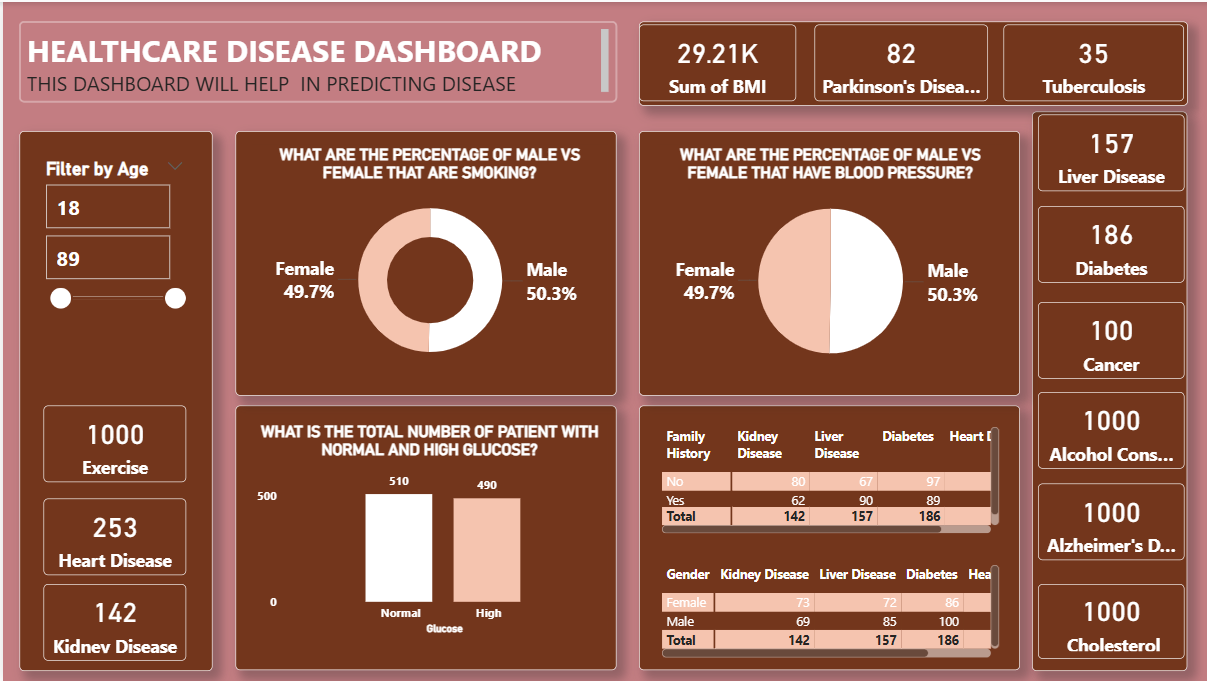

Layout of this report page (visuals, bound fields, positions):
{"tool":"powerbi","page":{"name":"Page 1","canvas":[1280,720],"ordinal":0},"visuals":[{"type":"shape","box":[674.8,428.4,403.7,280.5],"z":0},{"type":"shape","box":[246.4,428.4,403.7,280.5],"z":1000},{"type":"shape","box":[1091.7,115.6,164.9,593.3],"z":2000},{"type":"shape","box":[674.8,20.8,581.9,89.1],"z":3000},{"type":"shape","box":[674.8,136.5,403.7,280.5],"z":4000},{"type":"shape","box":[246.4,136.5,403.7,280.5],"z":5000},{"type":"donutChart","title":"WHAT ARE THE PERCENTAGE OF MALE VS FEMALE THAT ARE SMOKING?","fields":{"Y":["CountNonNull(healthcare_disease_prediction_dataset.Smoking)"],"Category":["healthcare_disease_prediction_dataset.Gender"]},"box":[263.5,151.6,377.2,248.3],"z":6000},{"type":"card","fields":{"Values":["Sum(healthcare_disease_prediction_dataset.Diabetes)"]},"box":[1097.4,216.1,155.4,81.5],"z":7000},{"type":"card","fields":{"Values":["Sum(healthcare_disease_prediction_dataset.Cancer)"]},"box":[1097.4,318.4,155.4,81.5],"z":8000},{"type":"card","fields":{"Values":["Sum(healthcare_disease_prediction_dataset.Liver Disease)"]},"box":[1097.4,119.4,155.4,81.5],"z":9000},{"type":"card","fields":{"Values":["Sum(healthcare_disease_prediction_dataset.Parkinson's Disease)"]},"box":[860.5,24.6,183.9,81.5],"z":10000},{"type":"card","fields":{"Values":["Sum(healthcare_disease_prediction_dataset.Tuberculosis)"]},"box":[1061.4,24.6,191.4,81.5],"z":11000},{"type":"pieChart","title":"WHAT ARE THE PERCENTAGE OF MALE VS FEMALE THAT HAVE BLOOD PRESSURE?","fields":{"Category":["healthcare_disease_prediction_dataset.Gender"],"Y":["CountNonNull(healthcare_disease_prediction_dataset.Blood Pressure)"]},"box":[693.7,151.6,367.7,250.2],"z":12000},{"type":"columnChart","title":"WHAT IS THE TOTAL NUMBER OF PATIENT WITH NORMAL AND HIGH GLUCOSE?","fields":{"Category":["healthcare_disease_prediction_dataset.Glucose"],"Y":["CountNonNull(healthcare_disease_prediction_dataset.Glucose)"]},"box":[263.5,445.4,377.2,229.3],"z":13000},{"type":"card","fields":{"Values":["CountNonNull(healthcare_disease_prediction_dataset.Alcohol Consumption)"]},"box":[1097.4,413.2,155.4,81.5],"z":14000},{"type":"card","fields":{"Values":["CountNonNull(healthcare_disease_prediction_dataset.Alzheimer's Disease)"]},"box":[1097.4,509.9,155.4,81.5],"z":15000},{"type":"card","fields":{"Values":["CountNonNull(healthcare_disease_prediction_dataset.Cholesterol)"]},"box":[1097.4,617.9,155.4,79.6],"z":16000},{"type":"pivotTable","title":"WHAT IS THE TOTAL NUMBER OF PATIENT WITH NORMAL AND HIGH GLUCOSE?","fields":{"Values":["Sum(healthcare_disease_prediction_dataset.Kidney Disease)","Sum(healthcare_disease_prediction_dataset.Liver Disease)","Sum(healthcare_disease_prediction_dataset.Diabetes)","CountNonNull(healthcare_disease_prediction_dataset.Heart Disease)"],"Rows":["healthcare_disease_prediction_dataset.Gender"]},"box":[693.7,591.4,367.7,108],"z":17000},{"type":"pivotTable","title":"WHAT IS THE TOTAL NUMBER OF PATIENT WITH NORMAL AND HIGH GLUCOSE?","fields":{"Values":["Sum(healthcare_disease_prediction_dataset.Kidney Disease)","Sum(healthcare_disease_prediction_dataset.Liver Disease)","Sum(healthcare_disease_prediction_dataset.Diabetes)","CountNonNull(healthcare_disease_prediction_dataset.Heart Disease)"],"Rows":["healthcare_disease_prediction_dataset.Family History"]},"box":[693.7,445.4,367.7,123.2],"z":18000},{"type":"shape","box":[17.1,136.5,204.7,572.4],"z":19000},{"type":"slicer","fields":{"Values":["healthcare_disease_prediction_dataset.Age"]},"box":[32.2,159.2,172.5,242.6],"z":20000},{"type":"card","fields":{"Values":["CountNonNull(healthcare_disease_prediction_dataset.Exercise)"]},"box":[43.6,428.4,151.6,81.5],"z":21000},{"type":"card","fields":{"Values":["Sum(healthcare_disease_prediction_dataset.Heart Disease)"]},"box":[43.6,526.9,151.6,81.5],"z":22000},{"type":"card","fields":{"Values":["Sum(healthcare_disease_prediction_dataset.Kidney Disease)"]},"box":[43.6,617.9,151.6,81.5],"z":23000},{"type":"card","fields":{"Values":["Sum(healthcare_disease_prediction_dataset.BMI)"]},"box":[674.8,24.6,166.8,81.5],"z":24000},{"type":"textbox","box":[17.1,20.8,633.1,85.3],"z":25000}]}

Visuals, with their boxes in screenshot pixels (x1, y1, x2, y2), scaled from the page's 1280x720 canvas onto the 1207x681 screenshot:
shape: x1=636, y1=405, x2=1017, y2=671
shape: x1=232, y1=405, x2=613, y2=671
shape: x1=1029, y1=109, x2=1185, y2=671
shape: x1=636, y1=20, x2=1185, y2=104
shape: x1=636, y1=129, x2=1017, y2=394
shape: x1=232, y1=129, x2=613, y2=394
"WHAT ARE THE PERCENTAGE OF MALE VS FEMALE THAT ARE SMOKING?" donutChart: x1=248, y1=143, x2=604, y2=378
card - Sum(healthcare_disease_prediction_dataset.Diabetes): x1=1035, y1=204, x2=1181, y2=281
card - Sum(healthcare_disease_prediction_dataset.Cancer): x1=1035, y1=301, x2=1181, y2=378
card - Sum(healthcare_disease_prediction_dataset.Liver Disease): x1=1035, y1=113, x2=1181, y2=190
card - Sum(healthcare_disease_prediction_dataset.Parkinson's Disease): x1=811, y1=23, x2=985, y2=100
card - Sum(healthcare_disease_prediction_dataset.Tuberculosis): x1=1001, y1=23, x2=1181, y2=100
"WHAT ARE THE PERCENTAGE OF MALE VS FEMALE THAT HAVE BLOOD PRESSURE?" pieChart: x1=654, y1=143, x2=1001, y2=380
"WHAT IS THE TOTAL NUMBER OF PATIENT WITH NORMAL AND HIGH GLUCOSE?" columnChart: x1=248, y1=421, x2=604, y2=638
card - CountNonNull(healthcare_disease_prediction_dataset.Alcohol Consumption): x1=1035, y1=391, x2=1181, y2=468
card - CountNonNull(healthcare_disease_prediction_dataset.Alzheimer's Disease): x1=1035, y1=482, x2=1181, y2=559
card - CountNonNull(healthcare_disease_prediction_dataset.Cholesterol): x1=1035, y1=584, x2=1181, y2=660
"WHAT IS THE TOTAL NUMBER OF PATIENT WITH NORMAL AND HIGH GLUCOSE?" pivotTable: x1=654, y1=559, x2=1001, y2=662
"WHAT IS THE TOTAL NUMBER OF PATIENT WITH NORMAL AND HIGH GLUCOSE?" pivotTable: x1=654, y1=421, x2=1001, y2=538
shape: x1=16, y1=129, x2=209, y2=671
slicer - healthcare_disease_prediction_dataset.Age: x1=30, y1=151, x2=193, y2=380
card - CountNonNull(healthcare_disease_prediction_dataset.Exercise): x1=41, y1=405, x2=184, y2=482
card - Sum(healthcare_disease_prediction_dataset.Heart Disease): x1=41, y1=498, x2=184, y2=575
card - Sum(healthcare_disease_prediction_dataset.Kidney Disease): x1=41, y1=584, x2=184, y2=662
card - Sum(healthcare_disease_prediction_dataset.BMI): x1=636, y1=23, x2=794, y2=100
textbox: x1=16, y1=20, x2=613, y2=100
